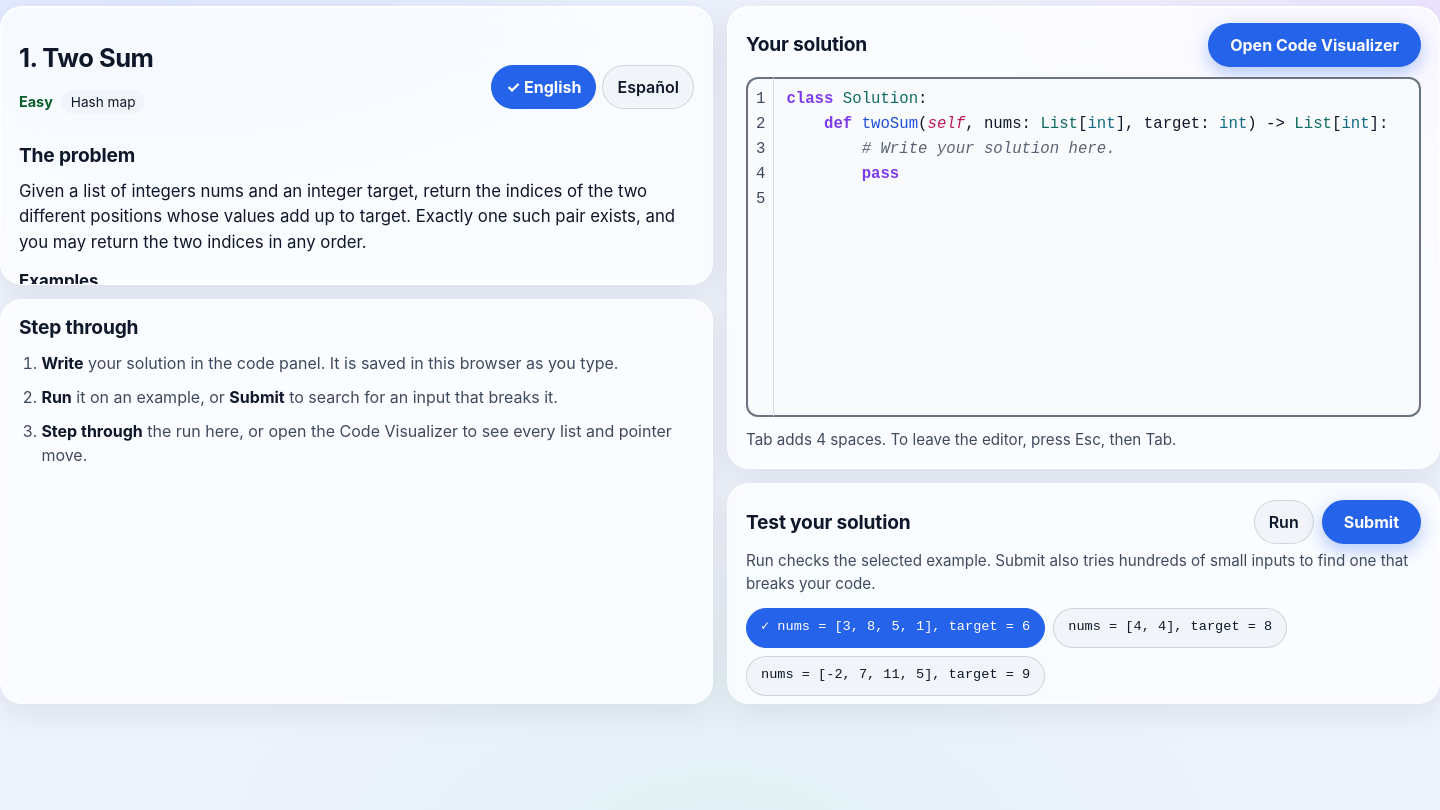
Test: Code Visualizer from the problem page › is offered before any run: it runs the chosen example first, then opens
Click the button "Open Code Visualizer": (1315, 45) x1=1208 y1=23 x2=1421 y2=67
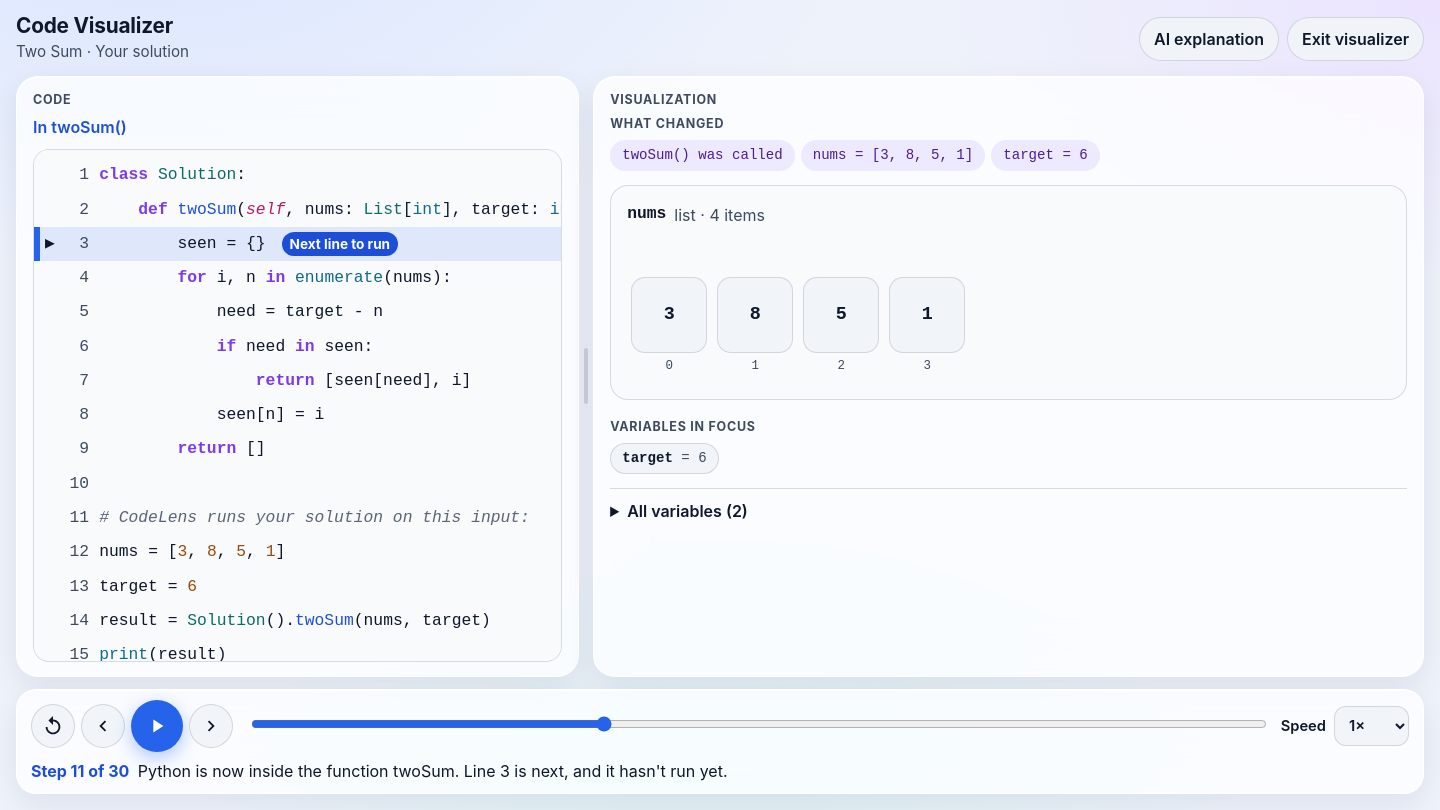
Result: the dialog "Code Visualizer" is shown
Result: the dialog "Code Visualizer" shows "Two Sum · Your solution"
